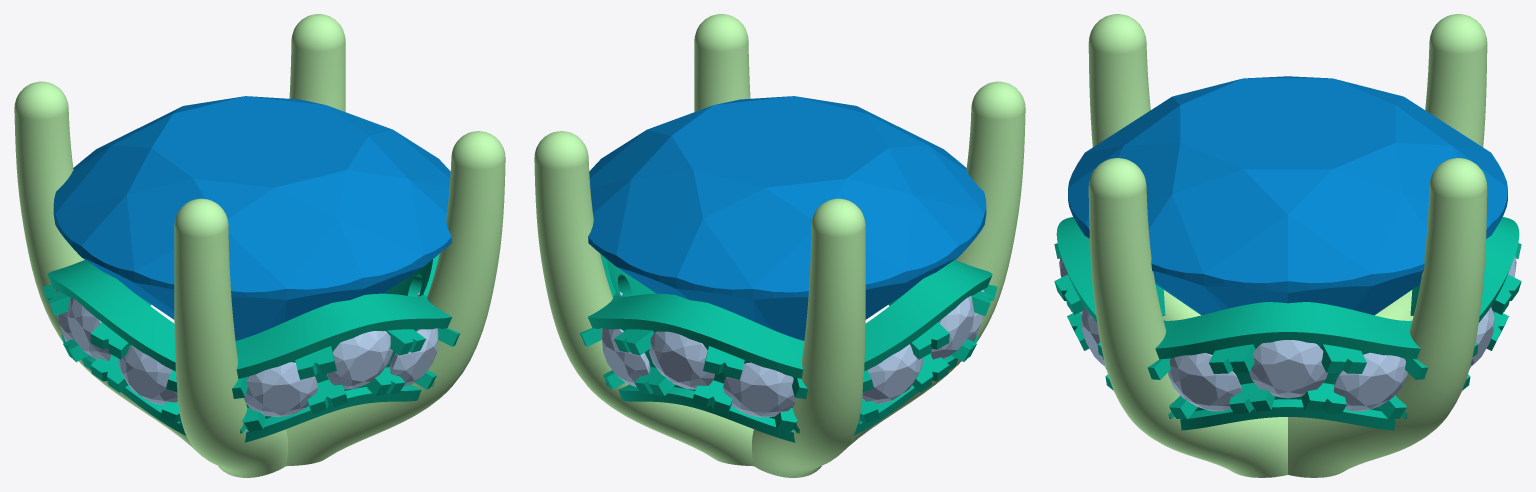
The picture shows the model from 3 angles, left to right: view 1: azimuth 30°, elevation 25°; view 2: azimuth 150°, elevation 25°; view 3: azimuth 270°, elevation 25°; orthographic projection. The views are drawn at different scales.
Parts seen in each view (by area): view 1: ja01161.3dm, Diamond_Round, GemOnCrv (×5), ObjectOnCrv (×6); view 2: ja01161.3dm, Diamond_Round, GemOnCrv (×5), ObjectOnCrv (×6); view 3: ja01161.3dm, Diamond_Round, GemOnCrv (×5), ObjectOnCrv (×6).
Boxes of the visible parts, left/top/right/bottom form: ja01161.3dm: left=14, top=14, right=505, bottom=477; Diamond_Round: left=53, top=96, right=451, bottom=340; GemOnCrv (×5): left=67, top=297, right=438, bottom=416; ObjectOnCrv (×6): left=90, top=322, right=425, bottom=414; ja01161.3dm: left=534, top=14, right=1025, bottom=477; Diamond_Round: left=588, top=96, right=986, bottom=340; GemOnCrv (×5): left=601, top=296, right=974, bottom=417; ObjectOnCrv (×6): left=614, top=322, right=949, bottom=414; ja01161.3dm: left=1056, top=14, right=1519, bottom=477; Diamond_Round: left=1068, top=76, right=1507, bottom=315; GemOnCrv (×5): left=1081, top=307, right=1494, bottom=411; ObjectOnCrv (×6): left=1054, top=274, right=1521, bottom=414.
Size of the model in its own units: 2.42 by 2.08 by 2.42.
